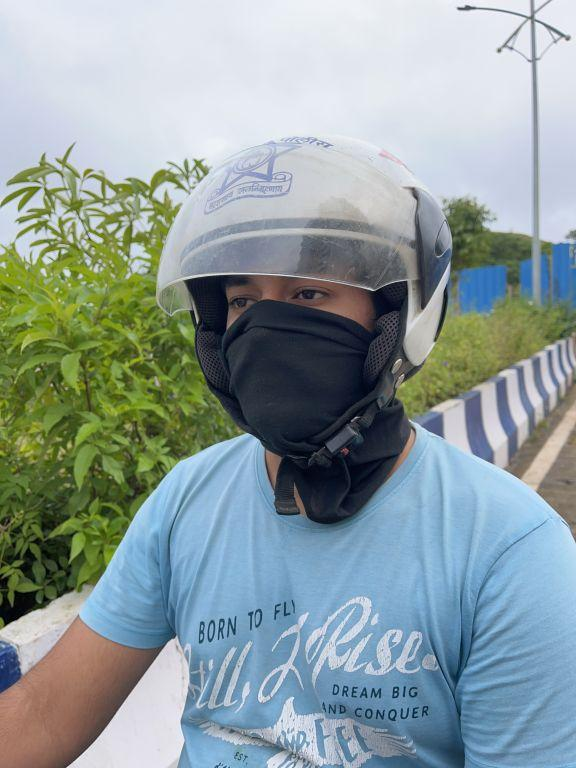helmet: (130, 112, 469, 443)
